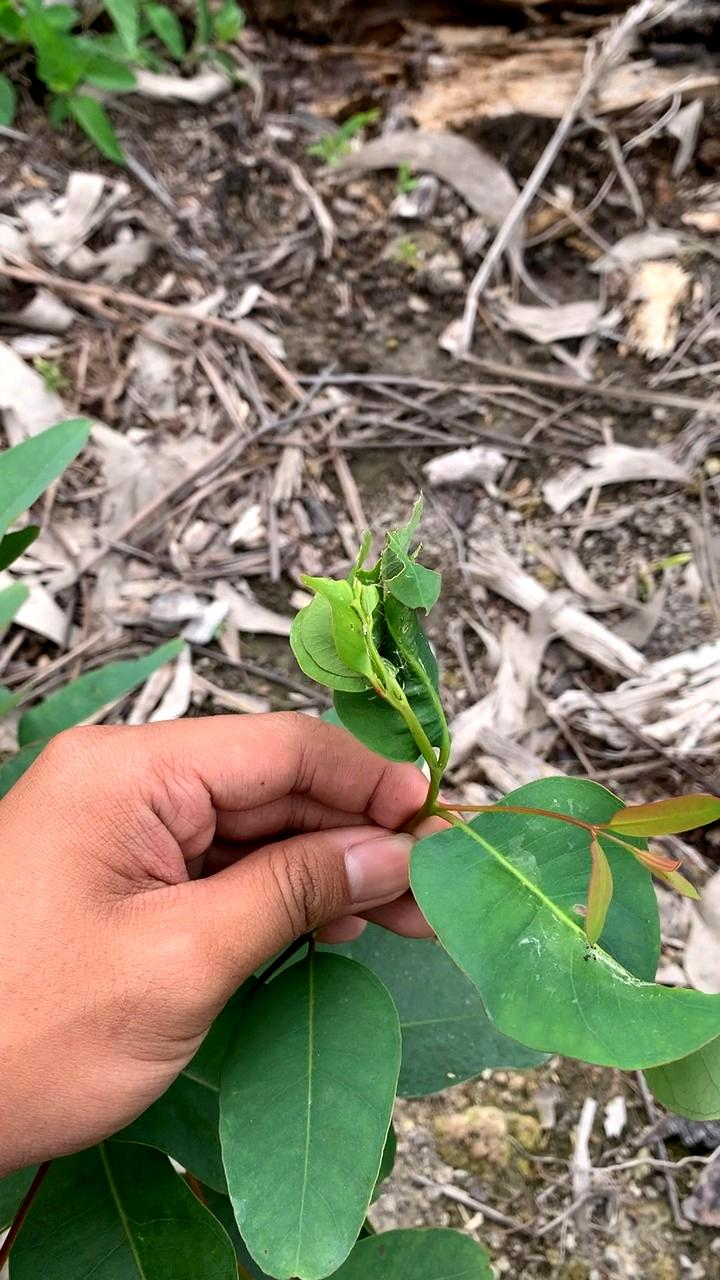Leaf Roller - Leaf: (273, 480, 463, 788)
